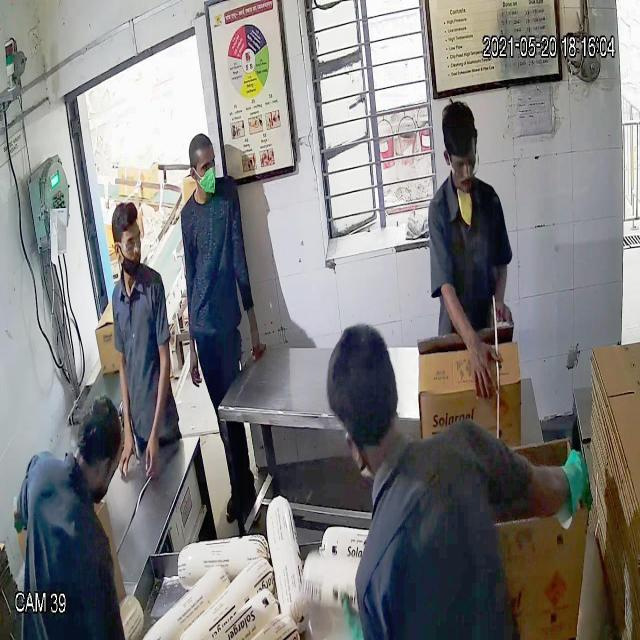glasses: (440, 139, 484, 182), (111, 233, 145, 255)
